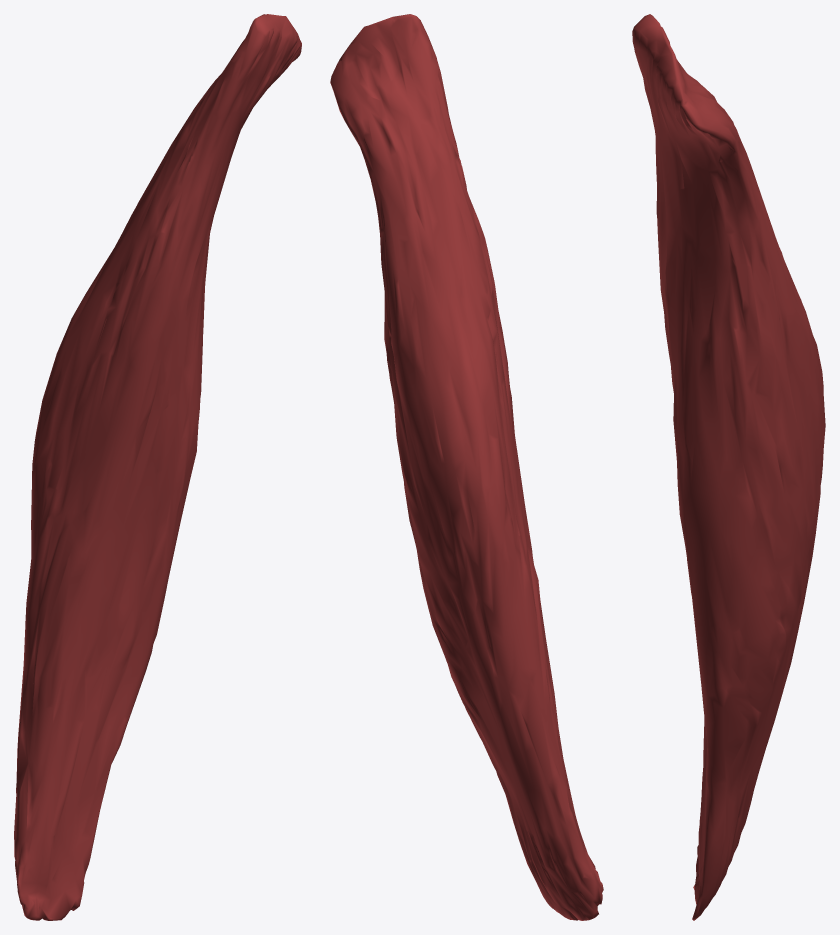
File: long-head-of-triceps-brachii-r.glb
3 renders of one model, left to right at view 1: azimuth 30°, elevation 25°; view 2: azimuth 150°, elevation 25°; view 3: azimuth 270°, elevation 25°, orthographic. The views are drawn at different scales.
Parts seen in each view (by area): view 1: Long head of triceps brachii.r; view 2: Long head of triceps brachii.r; view 3: Long head of triceps brachii.r.
Part boxes in pixels (x1,y1,x2,y2): Long head of triceps brachii.r: (14,14,301,920); Long head of triceps brachii.r: (330,14,603,920); Long head of triceps brachii.r: (632,14,825,920).
Size of the model in its own units: 0.0917 by 0.2721 by 0.0474.
